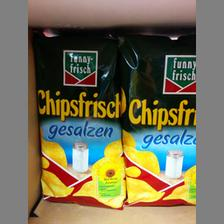Chips: (28, 28, 124, 208), (120, 32, 196, 204)
